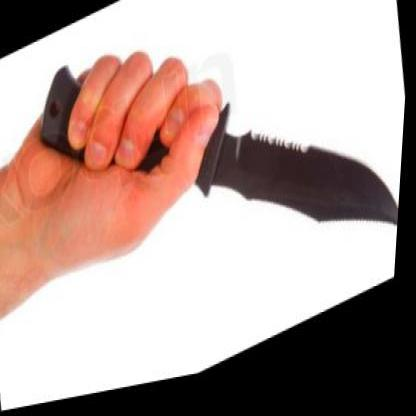knife: (61, 0, 415, 397)
